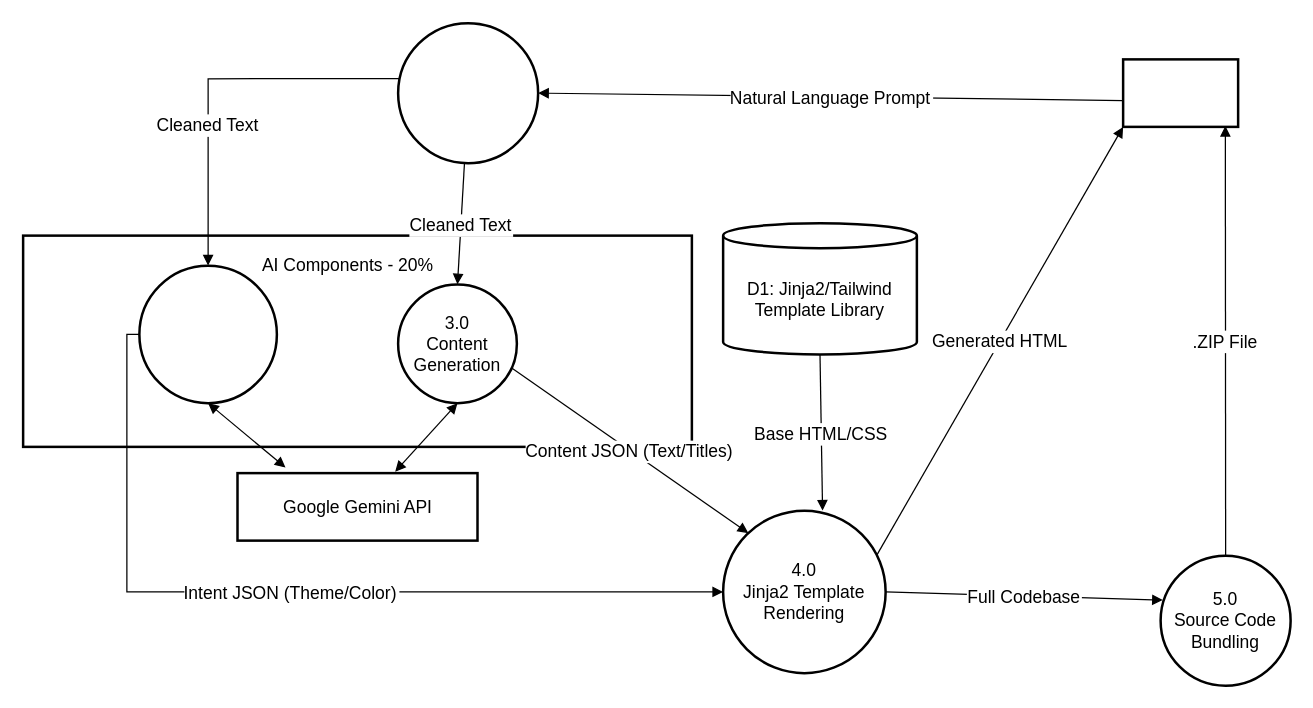
This 1313x708 diagram has some shape labels left out. Each missing label, with the centre of its shape:
1.0 Sanitize and Clean Prompt: point (467, 92)
2.0 Intent Classification: point (208, 334)
User: point (1180, 93)
